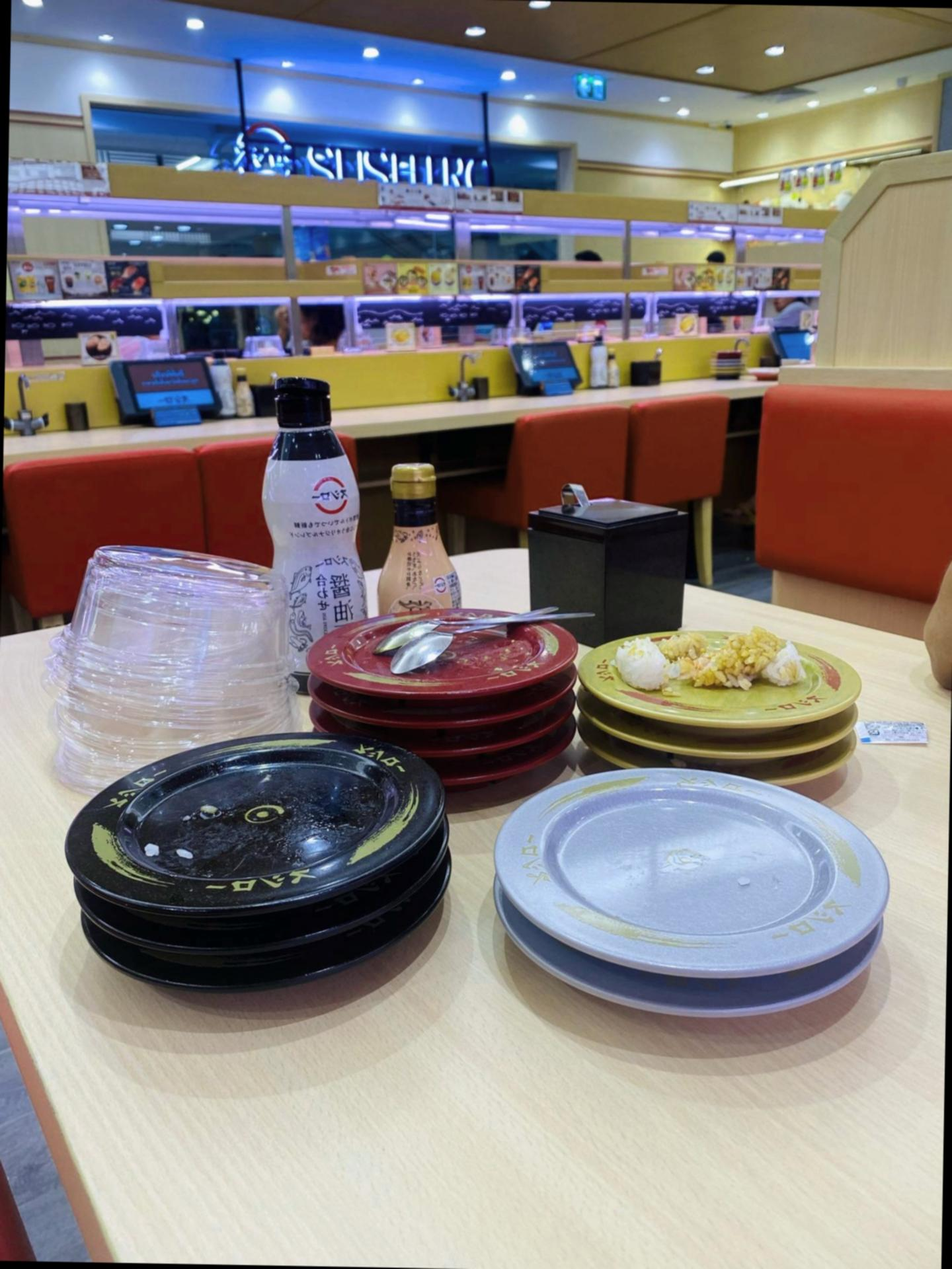Janback: (67, 744, 405, 900), (65, 902, 369, 951), (34, 950, 340, 996)
Jangold: (590, 634, 855, 732), (604, 732, 842, 757), (766, 758, 848, 785)
Janred: (332, 596, 564, 691), (312, 695, 562, 729), (423, 727, 548, 762), (446, 748, 532, 790), (347, 638, 349, 707)
Janwhite: (501, 798, 886, 961), (542, 966, 859, 1027)
